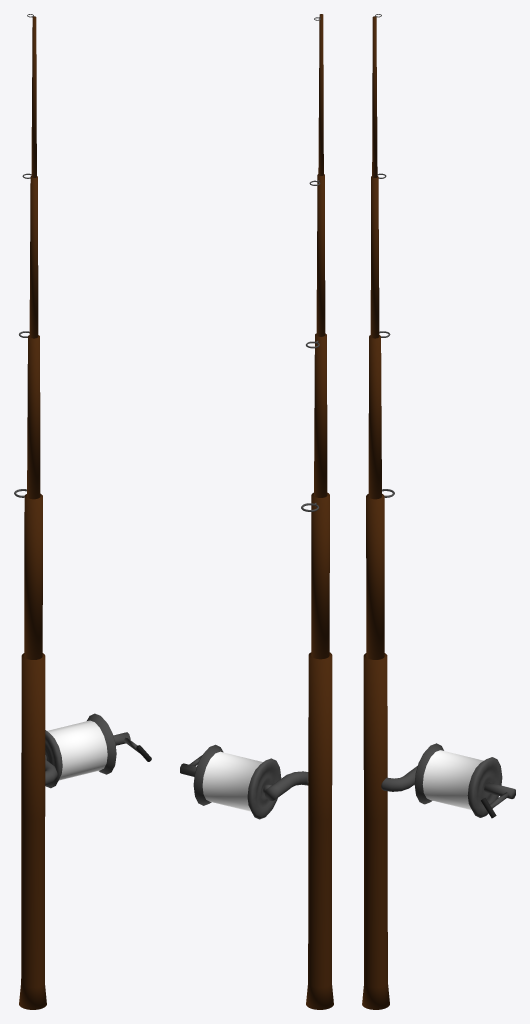
File: low-poly_fishing_rod.glb
The picture shows the model from 3 angles, left to right: view 1: azimuth 30°, elevation 25°; view 2: azimuth 150°, elevation 25°; view 3: azimuth 330°, elevation 25°; orthographic projection.
Visible parts, largest first — view 1: Rod_0, Reel_1, ReelHandle_3; view 2: Rod_0, Reel_1, ReelSeat_2; view 3: Rod_0, Reel_1, ReelHandle_3, ReelSeat_2.
Boxes of the visible parts, x1,y1,x2,y2 form: Rod_0: (19, 16, 46, 1009); Reel_1: (45, 713, 116, 788); ReelHandle_3: (113, 732, 151, 761); Rod_0: (306, 14, 333, 1009); Reel_1: (193, 744, 281, 819); ReelSeat_2: (263, 771, 308, 800); Rod_0: (362, 16, 389, 1009); Reel_1: (414, 743, 502, 817); ReelHandle_3: (481, 782, 515, 818); ReelSeat_2: (381, 766, 417, 791).
Size of the model in its own units: 4.3 by 30.89 by 2.49.
